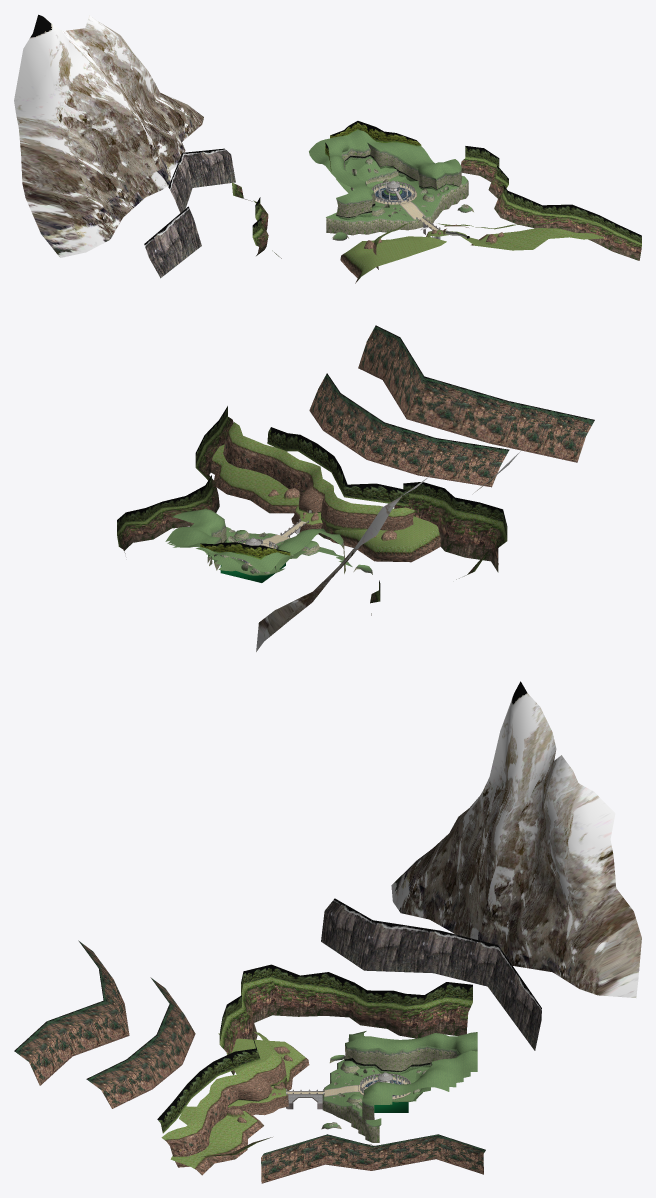
The model's file is past_shrine.glb.
3 views of the same model, one above another, from view 1: azimuth 30°, elevation 25°; view 2: azimuth 150°, elevation 25°; view 3: azimuth 270°, elevation 25° (orthographic). The views are drawn at different scales.
Parts seen in each view (by area): view 1: PastShrine; view 2: PastShrine; view 3: PastShrine.
Boxes of the visible parts, x1,y1,x2,y2 form: PastShrine: [14, 14, 641, 283]; PastShrine: [117, 325, 594, 651]; PastShrine: [14, 681, 641, 1183].
Size of the model in its own units: 867 by 376 by 813.
292 materials, 292 textured.
